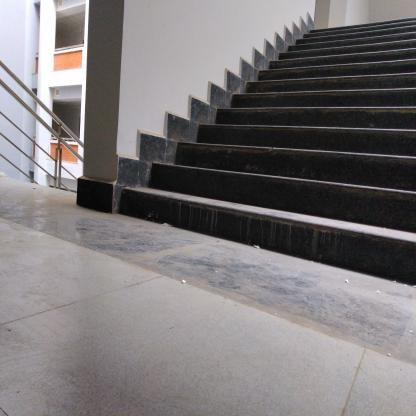stairs: (316, 24, 416, 282)
